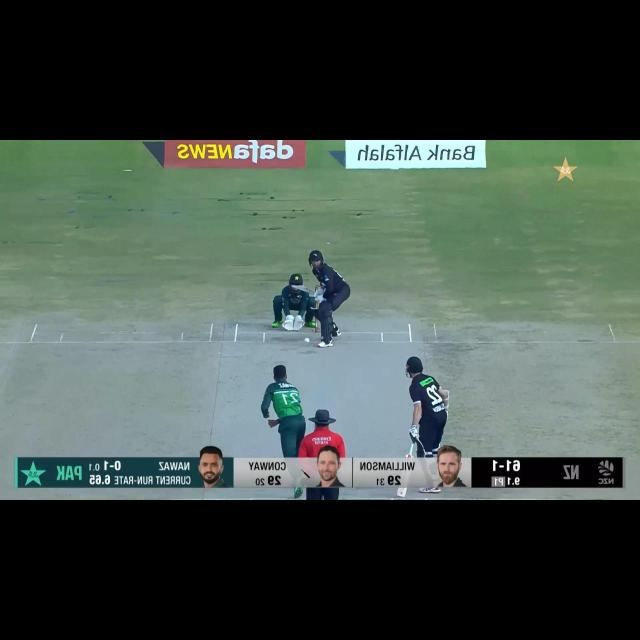bat: (291, 282, 314, 295), (395, 488, 406, 498)
toe: (397, 491, 407, 498), (290, 283, 301, 289)
